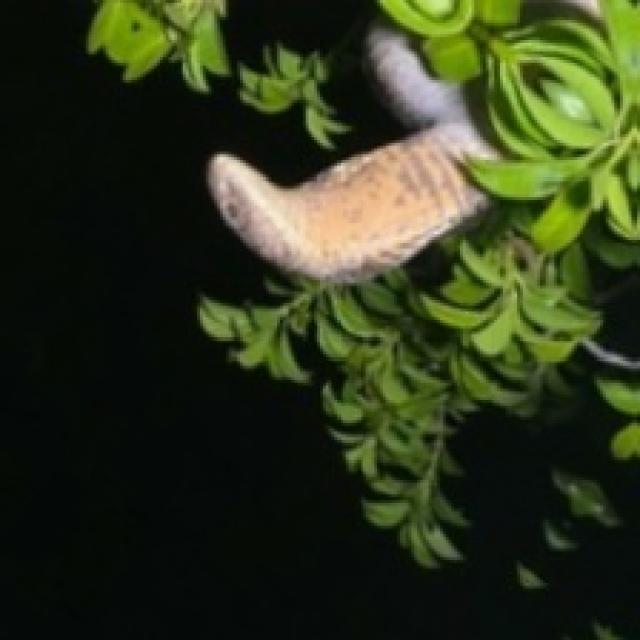king cobra: (209, 26, 494, 280)
